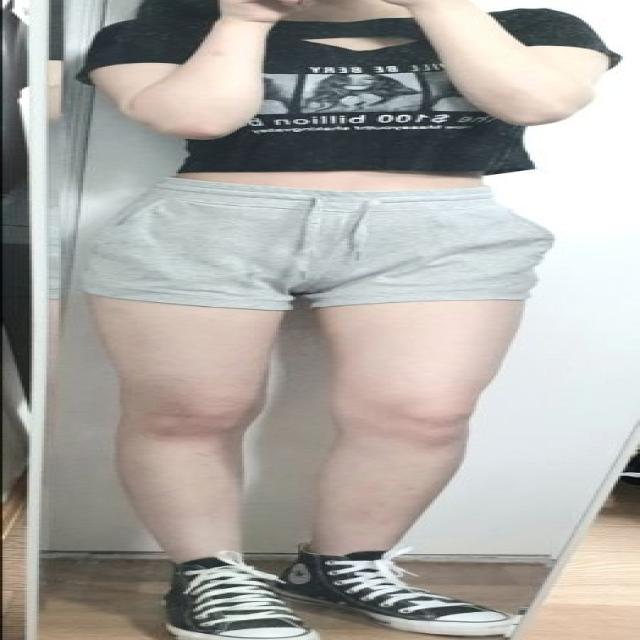shortpants: (73, 178, 550, 313)
shortsleeve: (76, 8, 604, 176)
